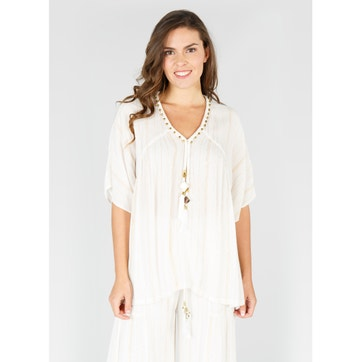C_short blouse: (105, 91, 257, 307)
